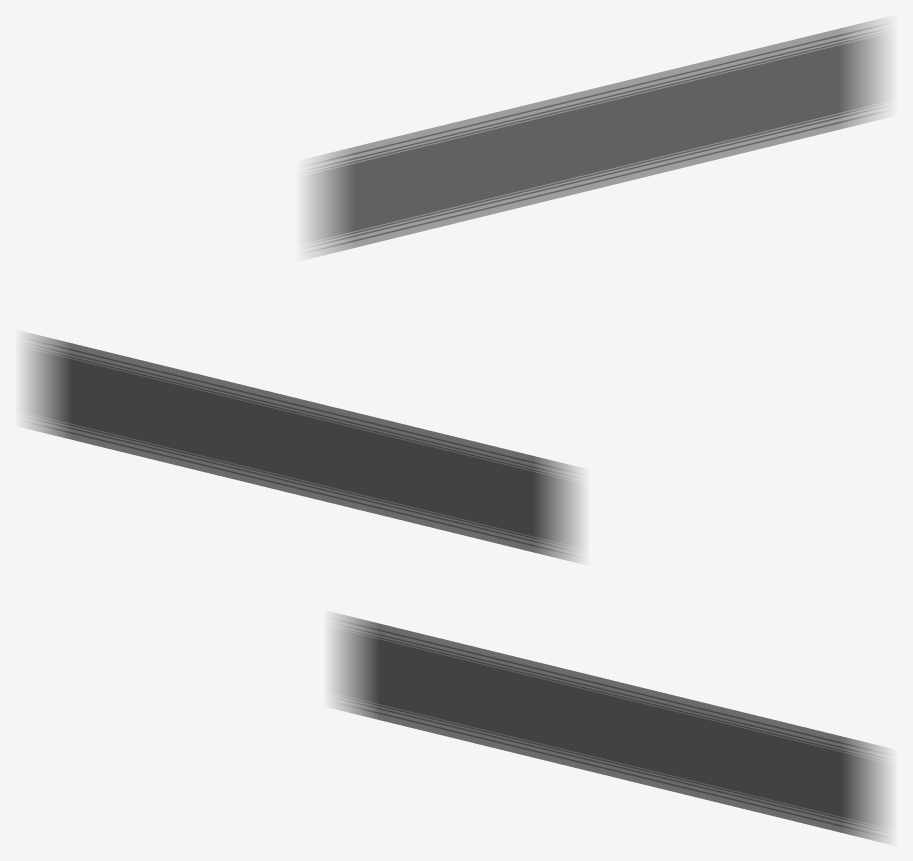
The model's file is all_win__win.glb.
3 views of the same model, one above another, from view 1: azimuth 30°, elevation 25°; view 2: azimuth 150°, elevation 25°; view 3: azimuth 330°, elevation 25° (orthographic). The views are drawn at different scales.
Visible parts, largest first — view 1: polygon0; view 2: polygon0; view 3: polygon0.
Boxes of the visible parts, <box> form: polygon0: <box>304,17,889,259</box>; polygon0: <box>23,332,581,563</box>; polygon0: <box>331,612,889,843</box>.
Size of what is drawn, in the model's own units: 75 by 8 by 3.
Materials: 2 (2 with a texture image).
